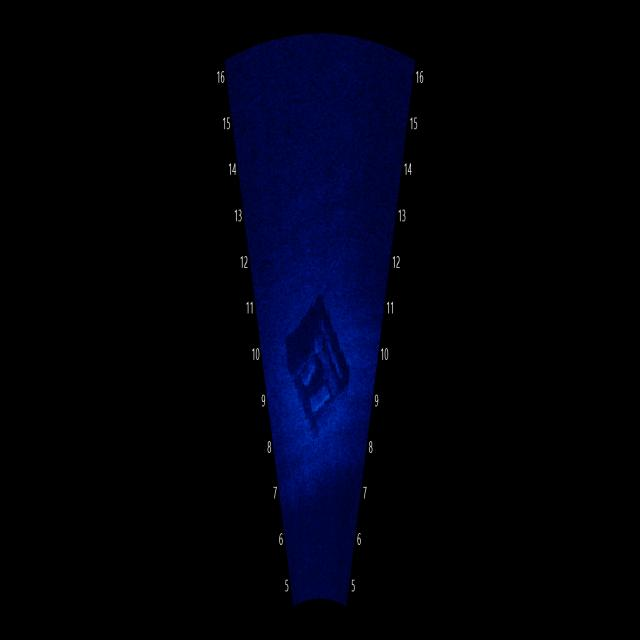square: (277, 278, 359, 442)
